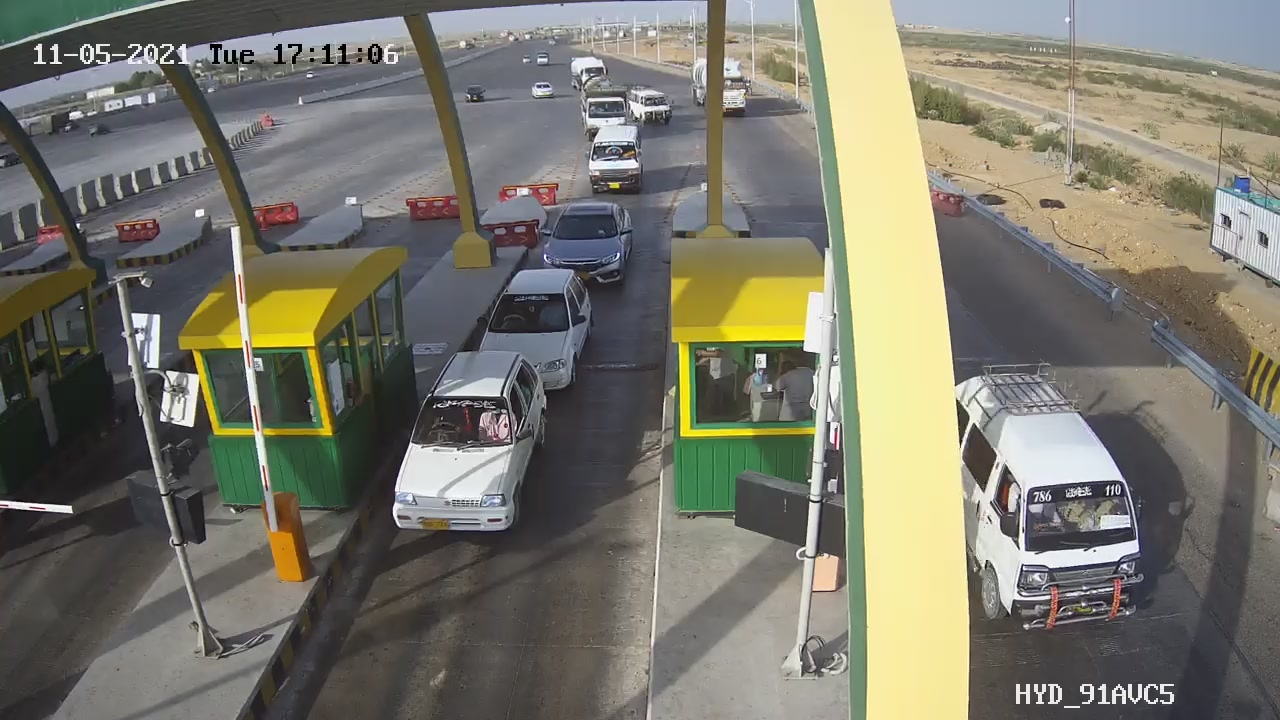F1: (374, 338, 564, 556), (518, 187, 651, 304)
